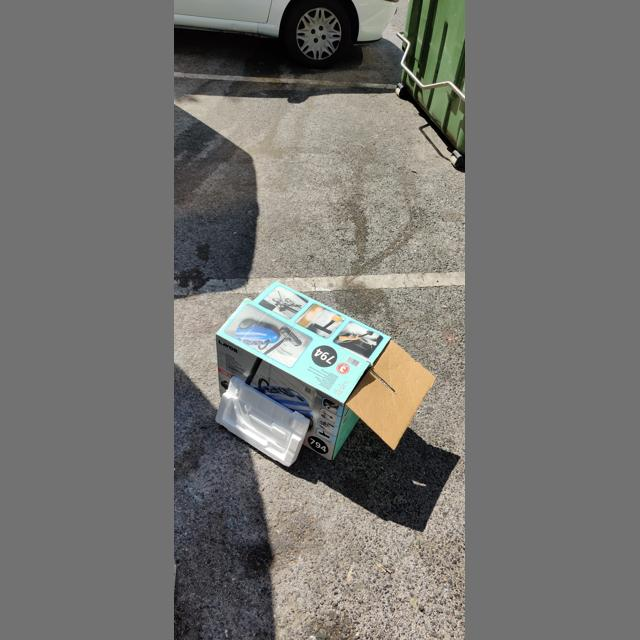litter: (216, 281, 436, 460), (215, 376, 311, 467)
